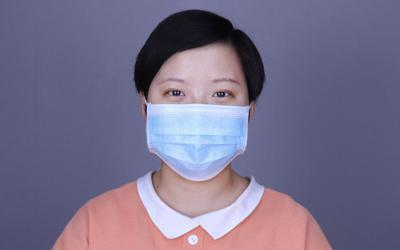mask: (143, 77, 252, 184)
